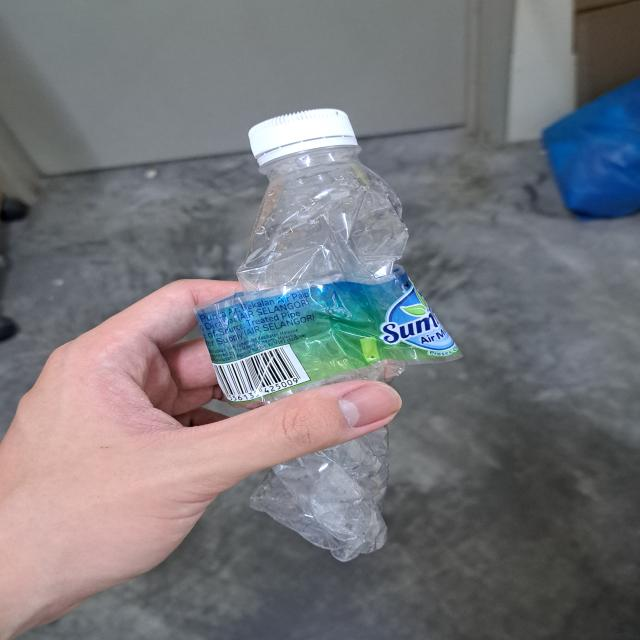plastic bottle: (197, 147, 463, 563)
plastic bottle cap: (248, 108, 356, 159)
